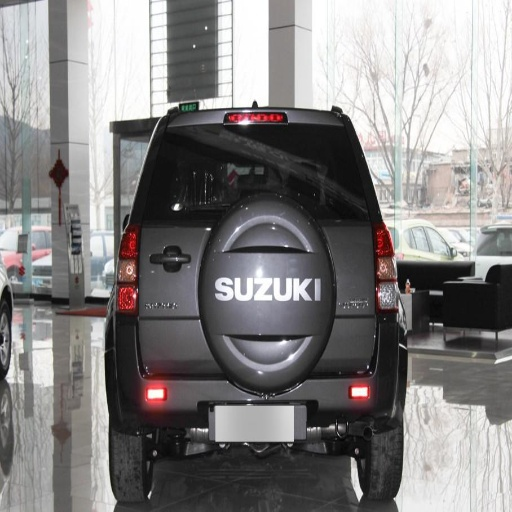back_bumper: (115, 323, 229, 425), (291, 316, 407, 416)
back_right_light: (375, 225, 396, 315)
tailgate: (196, 291, 329, 351)
trunk: (139, 161, 369, 353)
